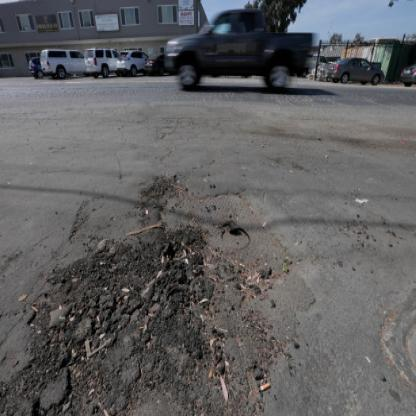damage: (8, 198, 264, 412)
